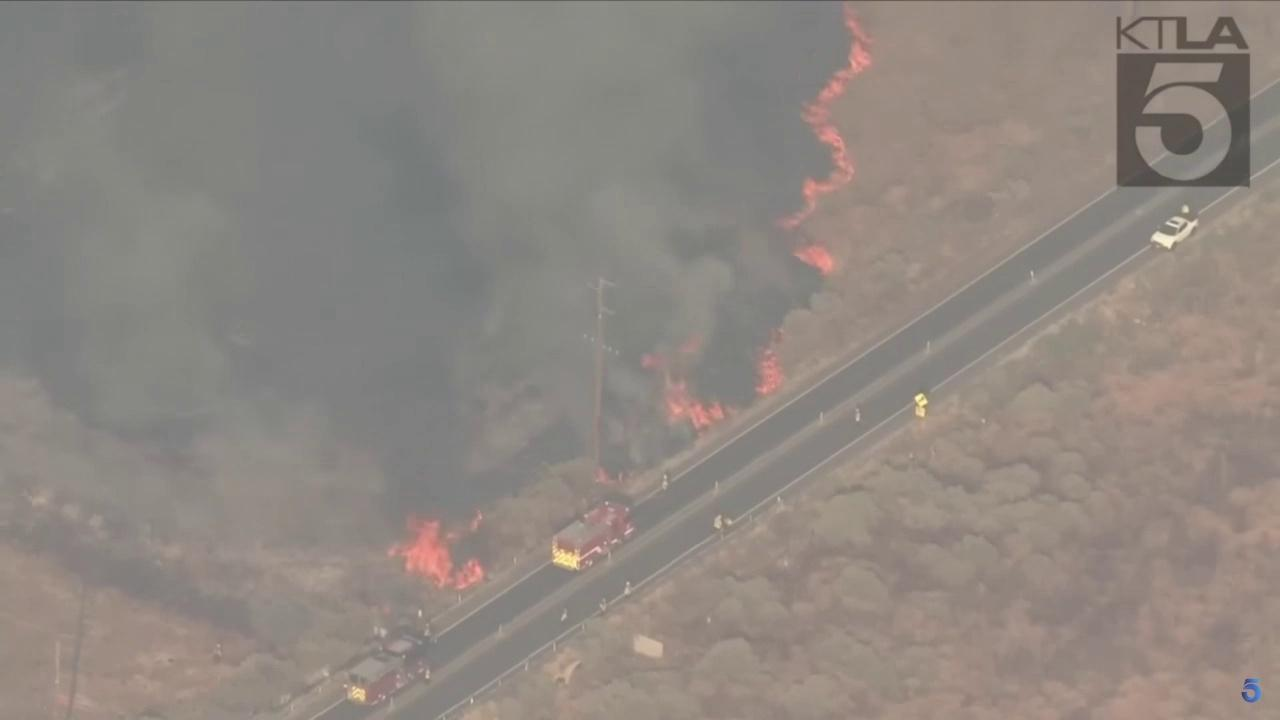fire: (771, 0, 874, 231), (384, 504, 485, 592), (660, 379, 737, 436), (752, 341, 784, 395), (790, 243, 838, 278), (590, 462, 626, 484)
smoke: (0, 0, 830, 570)
